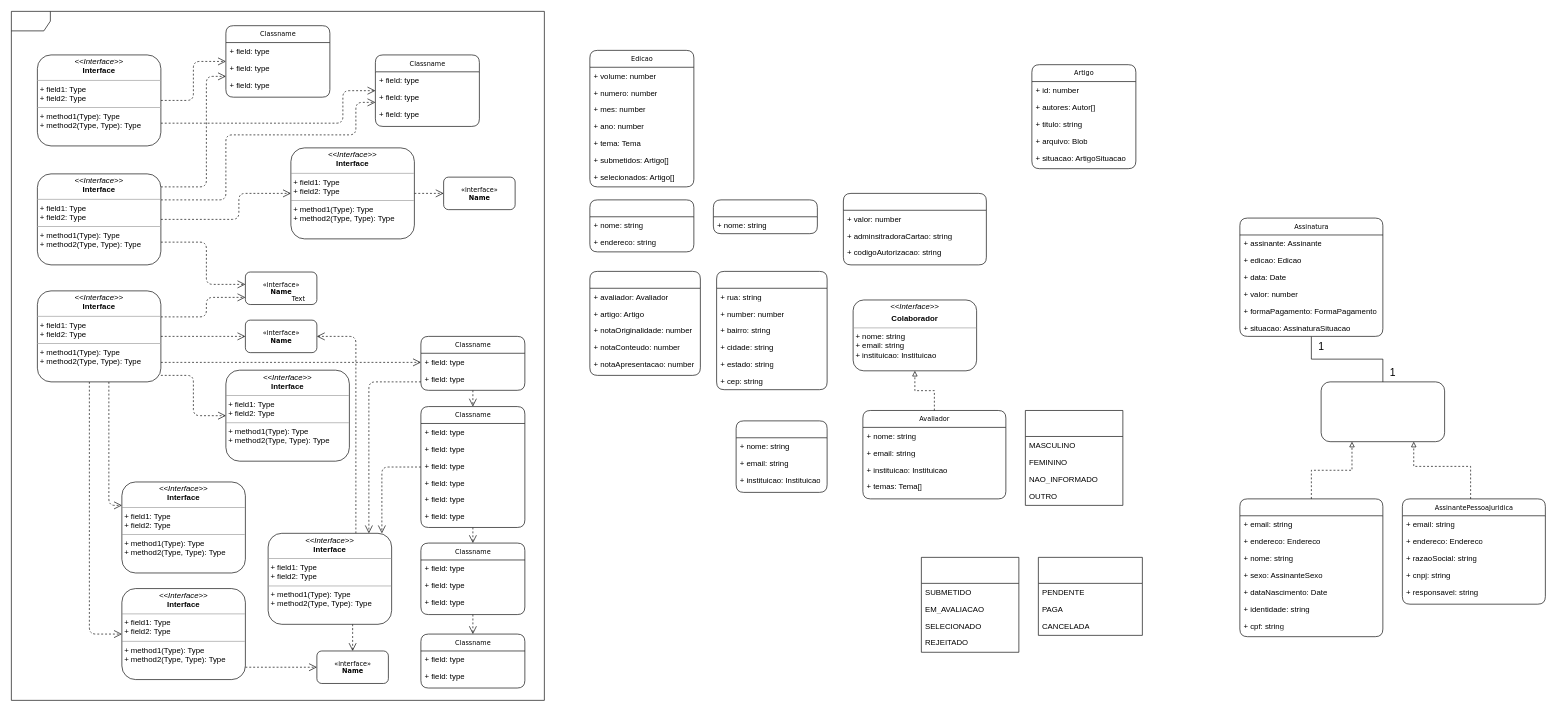
This 1557x712 diagram has some shape labels left out. The shapes that lost their labels are listed below. From the top down, each one's box as (x1, y1, x2, y2) in pixels, then its label:
(589, 199, 694, 252): Instituicao
(713, 199, 817, 234): Tema
(843, 193, 986, 265): FormaPagamento
(589, 271, 700, 375): Avaliacao
(716, 271, 827, 390): Endereco
(11, 11, 544, 700): frame
(1320, 381, 1445, 442): <<Interface>> Assinante + email: string + endereco: Endereco
(735, 420, 827, 492): Autor
(1025, 410, 1123, 505): <<Enum>> AssinanteSexo
(1239, 498, 1383, 637): AssinantePessoaFisica
(921, 557, 1019, 652): <<Enum>> ArtigoSituacao
(1038, 557, 1142, 635): <<Enum>> AssinaturaSituacao
